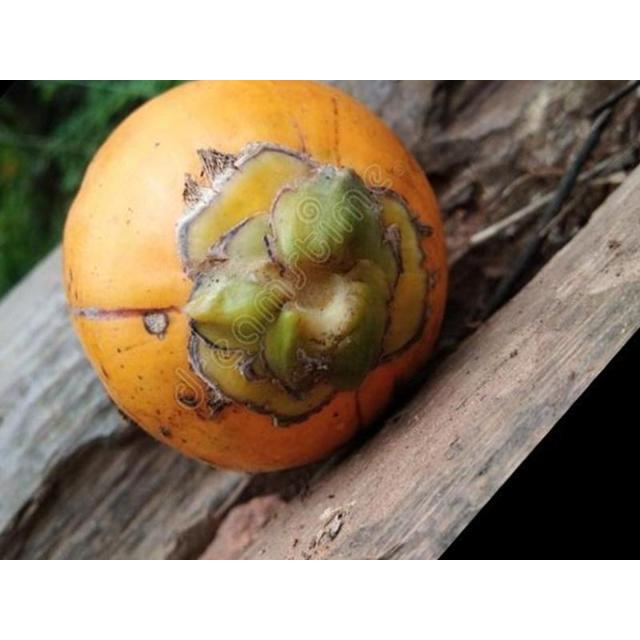good: (60, 80, 450, 479)
